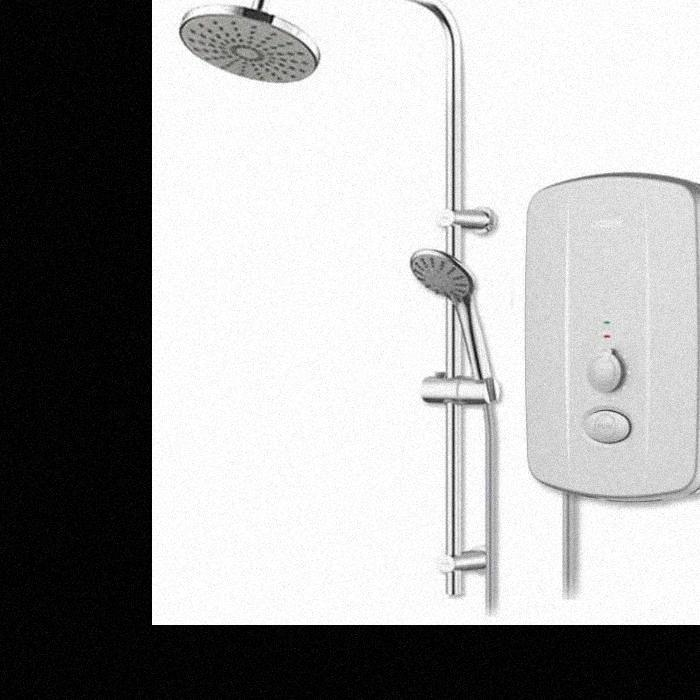Ducha: (177, 0, 700, 601)
